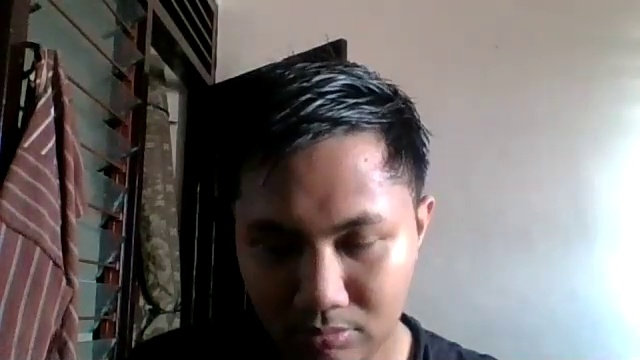Distracted: (229, 88, 434, 356)
